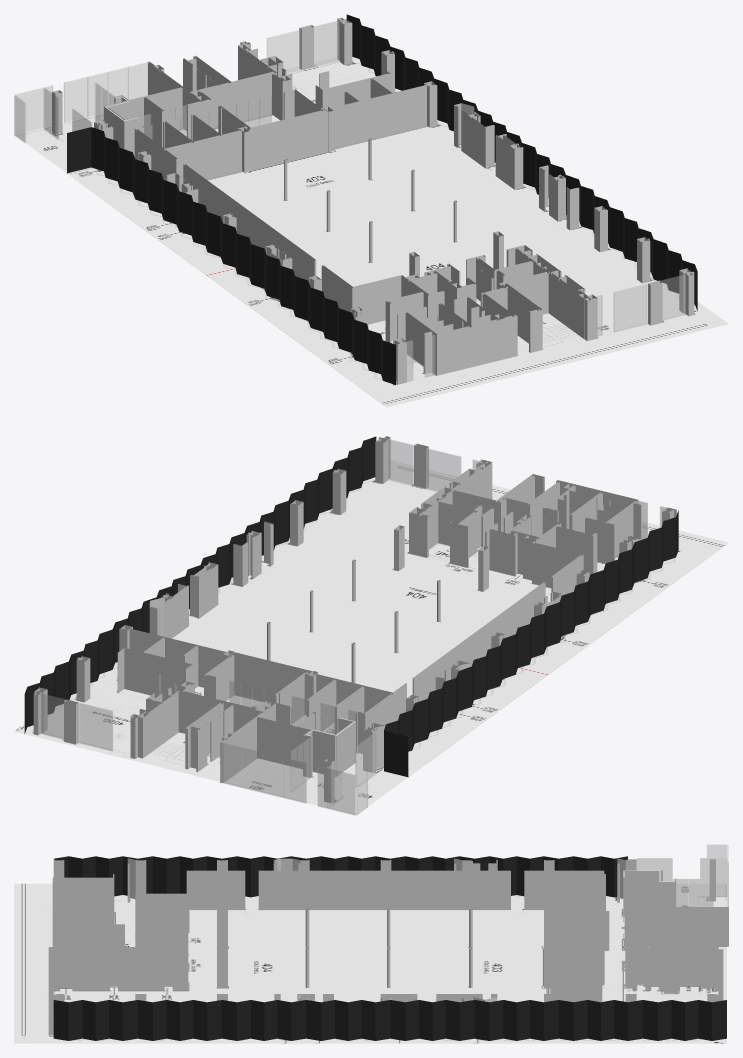
File: floor 4.glb
3 views of the same model, one above another, from view 1: azimuth 30°, elevation 25°; view 2: azimuth 150°, elevation 25°; view 3: azimuth 270°, elevation 25° (orthographic). The views are drawn at different scales.
Parts seen in each view (by area): view 1: plan_col, interior, exterior, windows; view 2: plan_col, interior, exterior, windows; view 3: interior, plan_col, exterior, windows.
Part boxes in pixels (x1,y1,x2,y2): plan_col: (16, 57, 728, 407); interior: (52, 48, 650, 374); exterior: (14, 14, 697, 384); windows: (44, 82, 271, 139); plan_col: (14, 460, 728, 814); interior: (76, 463, 641, 802); exterior: (24, 436, 678, 815); windows: (130, 680, 375, 786); interior: (52, 858, 727, 1002); plan_col: (14, 883, 726, 1043); exterior: (48, 844, 728, 1040); windows: (602, 858, 726, 960).
Size of what is drawn, in the model's own units: 27.63 by 3.15 by 51.98.
Materials: 4 (1 with a texture image).
